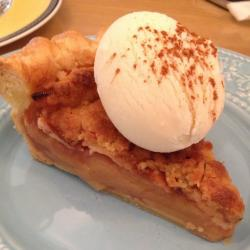apple_pie: (11, 49, 240, 240)
icecream: (90, 9, 228, 156)
